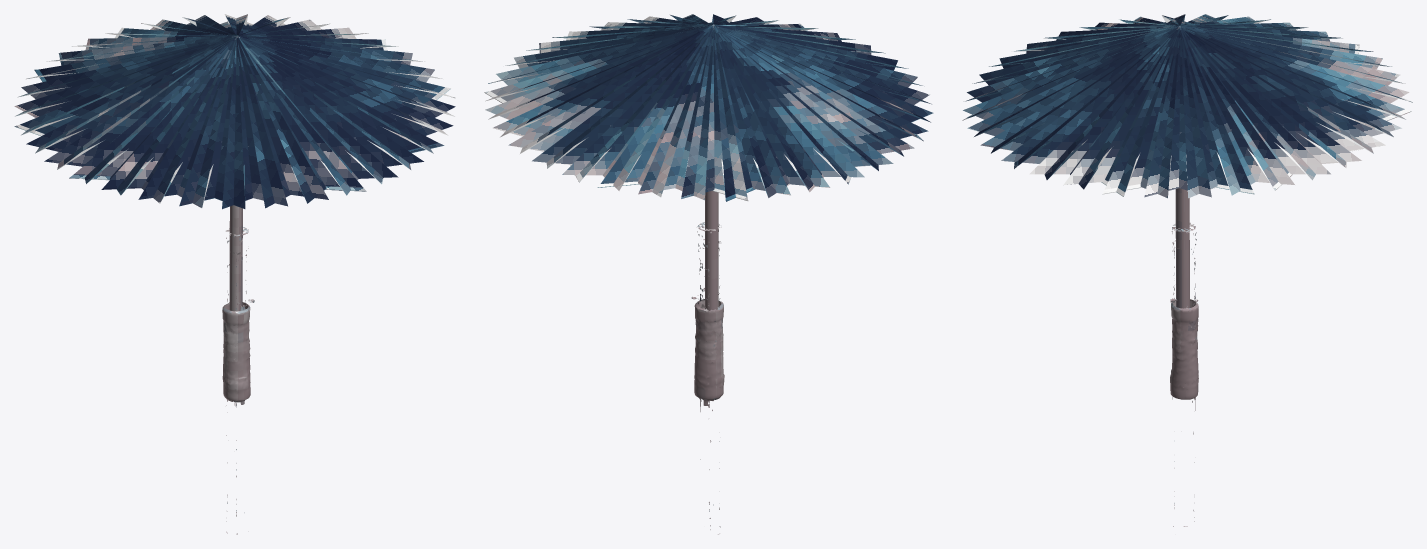
Rendered from wagasa_parasol.glb.
The picture shows the model from 3 angles, left to right: view 1: azimuth 30°, elevation 25°; view 2: azimuth 150°, elevation 25°; view 3: azimuth 270°, elevation 25°; orthographic projection.
Visible parts, largest first — view 1: mesh; view 2: mesh; view 3: mesh.
Boxes of the visible parts, <box> form: mesh: <box>14,14,455,534</box>; mesh: <box>484,14,933,534</box>; mesh: <box>962,14,1412,526</box>.
Bounding box in the file's own units: 1.72 × 2.13 × 1.73.
1 material, 1 textured.
